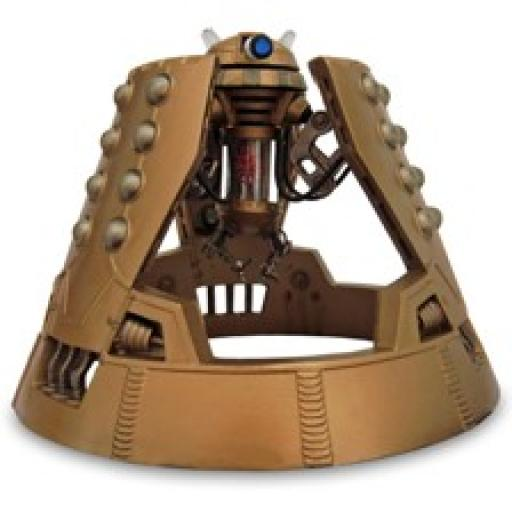dalek: (15, 20, 502, 470)
